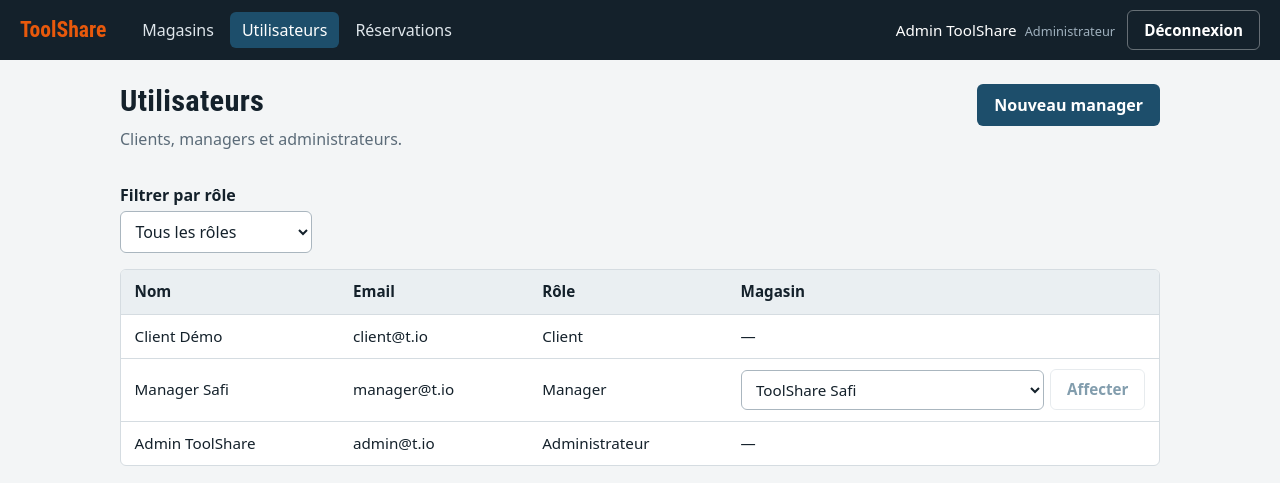
Test: admin users › lists users and filters by role
Expected: the text "client@t.io" is shown, x1=339 y1=314 x2=529 y2=359
Select "Managers" in the dropdown labelled "Filtrer par rôle" at (216, 232), box x1=120 y1=211 x2=312 y2=253
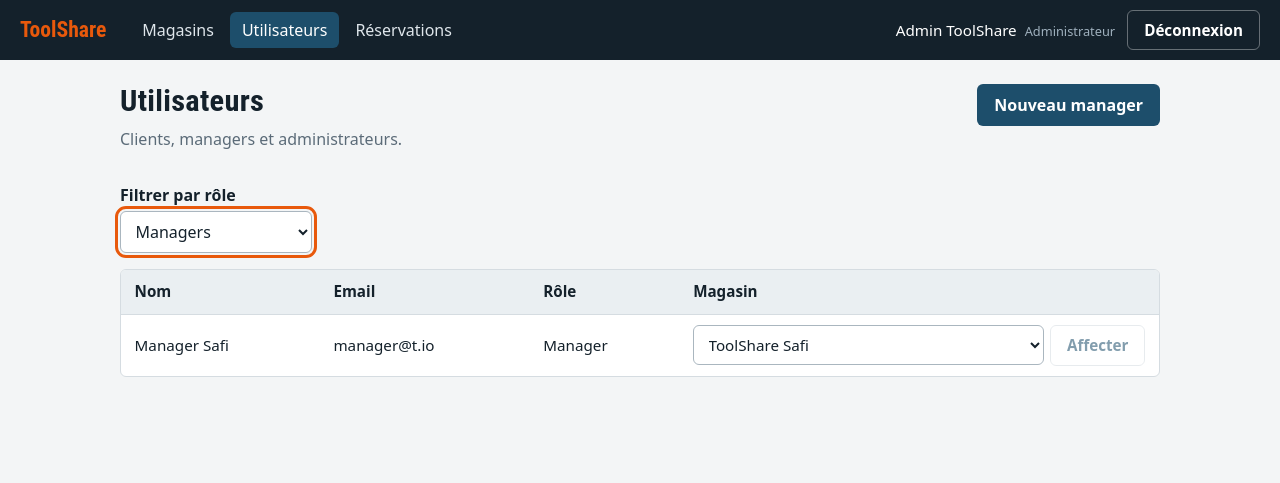
Expected: the text "manager@t.io" is shown, x1=320 y1=314 x2=530 y2=376
Result: the text "client@t.io" is gone
